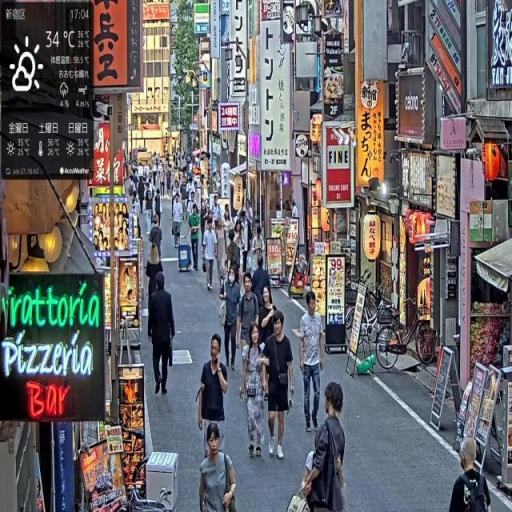person: (301, 380, 347, 512), (263, 307, 296, 466), (241, 320, 270, 461), (298, 290, 326, 434), (199, 333, 230, 452), (198, 422, 238, 512), (149, 272, 177, 397), (448, 438, 493, 512), (236, 274, 261, 387), (221, 264, 244, 372), (251, 253, 274, 319), (203, 219, 220, 292), (188, 203, 202, 274), (149, 216, 163, 267), (172, 195, 184, 247)
